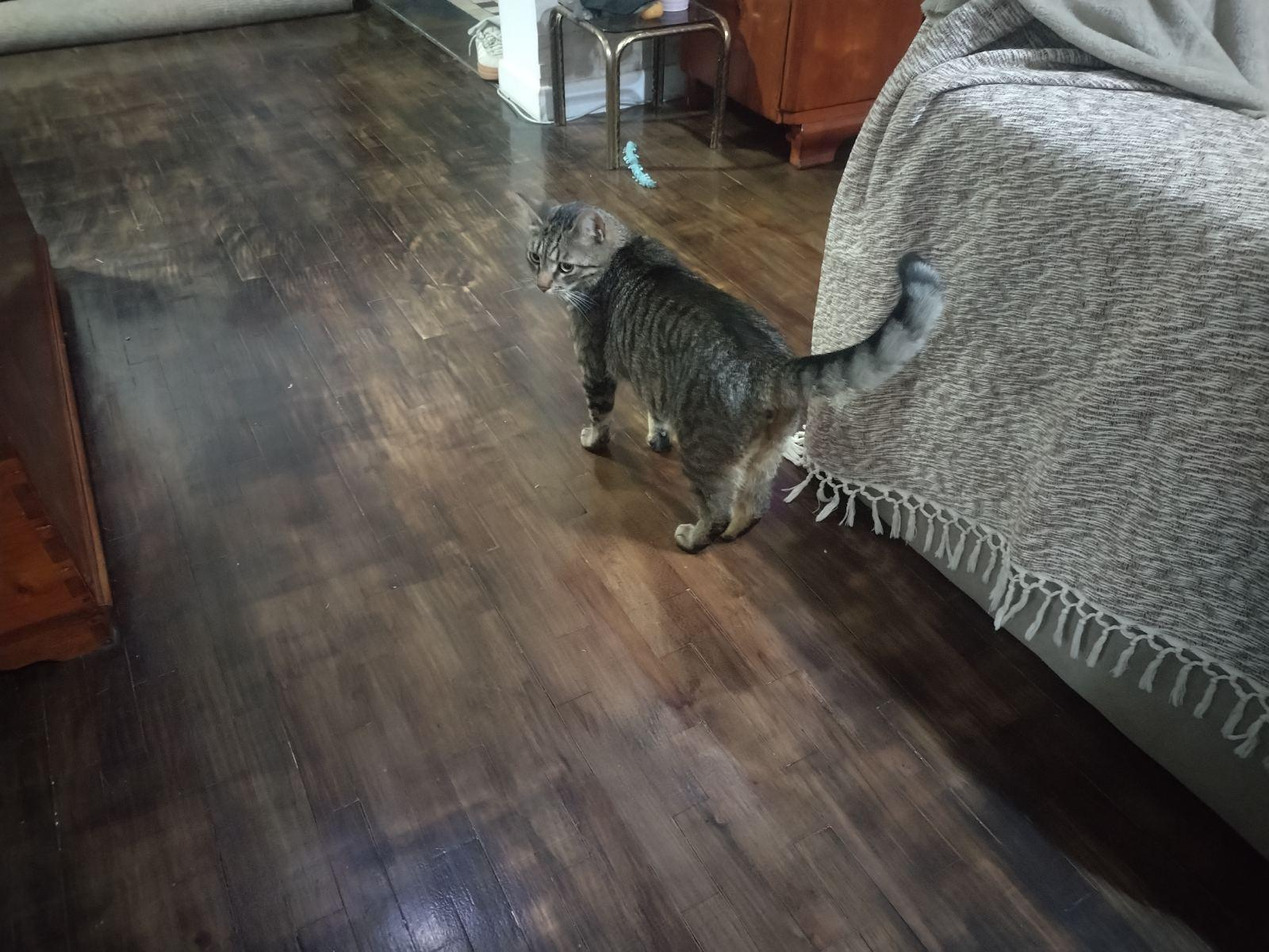macka: (514, 189, 950, 556)
